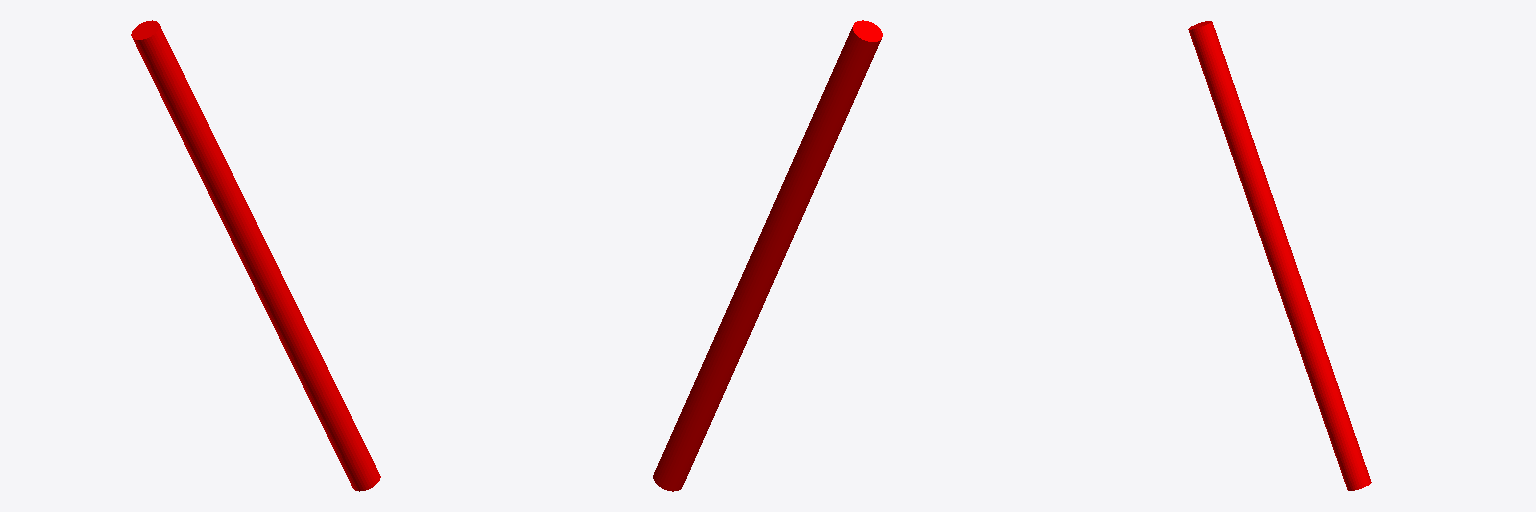
robot.urdf — tree_8.urdf:
<?xml version='1.0' encoding='utf-8'?>
<robot name="tree_8.urdf">
  <link name="branch_0">
    <inertial>
      <origin xyz="0.0 0.0 0.0" rpy="0.0 -0.0 0.0" />
      <mass value="1.0" />
      <inertia ixx="1.0" ixy="0.0" ixz="0.0" iyy="1.0" iyz="0.0" izz="1.0" />
    </inertial>
    <visual name="branch_0_visual">
      <geometry>
        <cylinder radius="0.06700049955205929" length="2.6110429165784588" />
      </geometry>
      <material name="semantic_material" />
      <origin xyz="-0.5243413493775464 0.06695985067418209 1.1937205727406484" rpy="6.882996912936814e-18 0.4168643520588256 3.01457734645528" />
    </visual>
    <collision name="branch_0_collision">
      <geometry>
        <cylinder radius="0.06700049955205929" length="2.6110429165784588" />
      </geometry>
      <origin xyz="-0.5243413493775464 0.06695985067418209 1.1937205727406484" rpy="6.882996912936814e-18 0.4168643520588256 3.01457734645528" />
    </collision>
  </link>
  <material name="semantic_material">
    <color rgba="1. 0. 0. 1." />
  </material>
</robot>

--- What the picture shows (computed from the rendered views, not written in the file) ---
The picture shows the robot from 3 angles, left to right: view 1: azimuth 30°, elevation 25°; view 2: azimuth 150°, elevation 25°; view 3: azimuth 330°, elevation 25°; orthographic projection.
Robot: tree_8.urdf — 1 links, 0 joints (none); root link branch_0; default pose: all joints at 0.
Links seen in each view (by area): view 1: branch_0; view 2: branch_0; view 3: branch_0.
Boxes of the visible links, x1,y1,x2,y2 form: branch_0: (131, 20, 380, 491); branch_0: (653, 20, 882, 491); branch_0: (1188, 21, 1371, 490).
Size in the robot's own frame: 1.17 by 0.2673 by 2.44 metres.
Geometry: primitives only (box / cylinder / sphere), no mesh files.